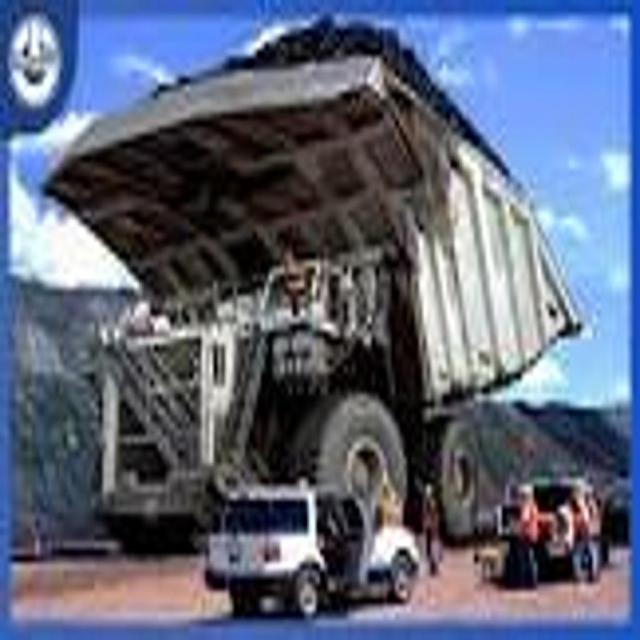dump_truck: (44, 9, 583, 548)
